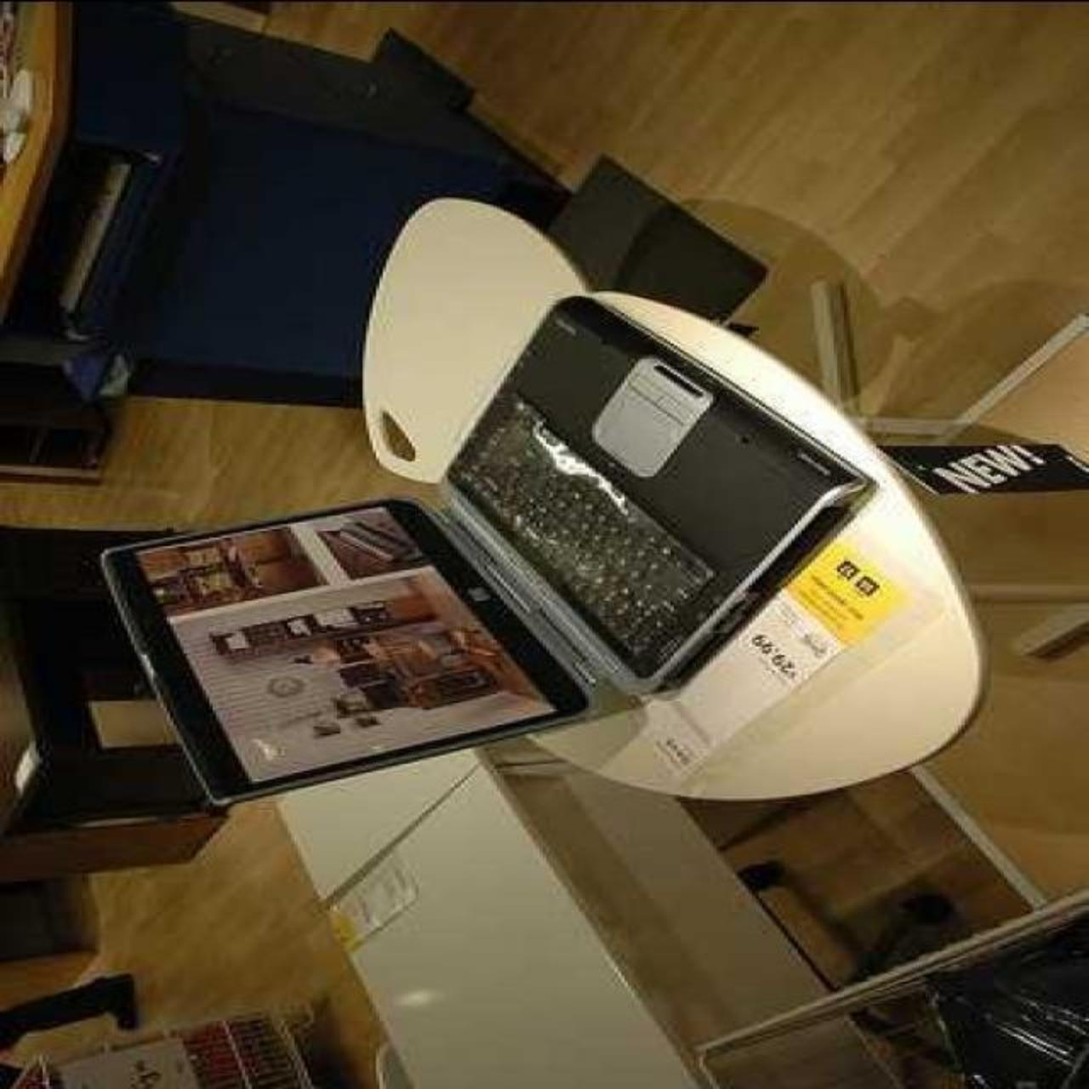laptop: (143, 311, 783, 778)
